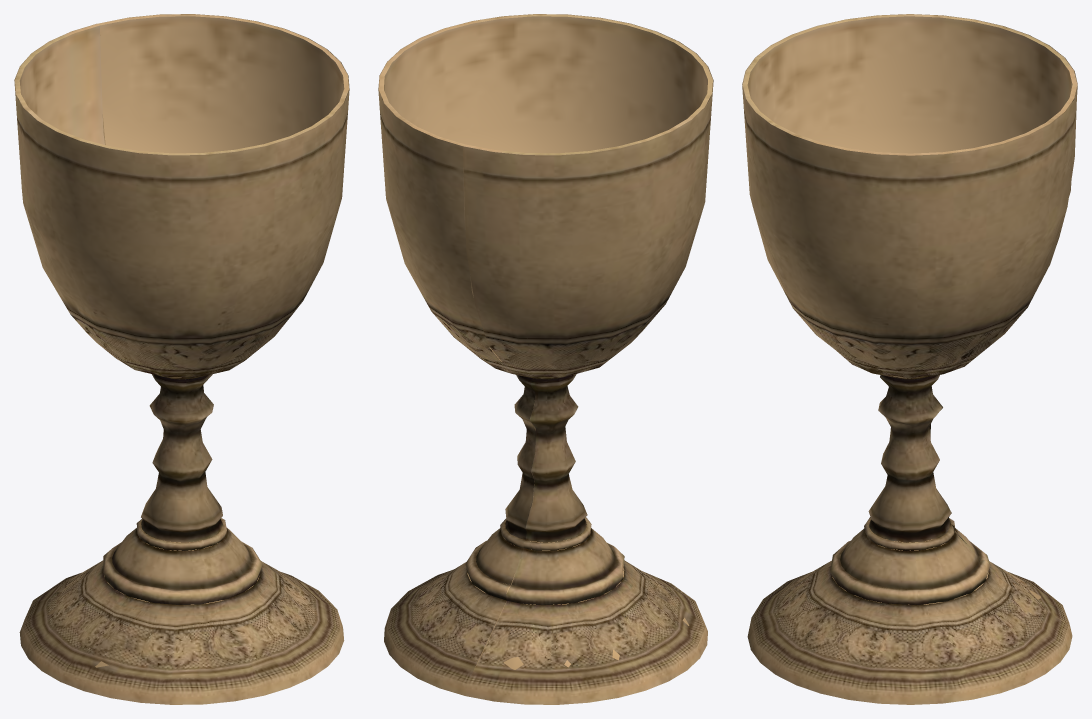
Rendered from prop_goblet.glb.
The picture shows the model from 3 angles, left to right: view 1: azimuth 30°, elevation 25°; view 2: azimuth 150°, elevation 25°; view 3: azimuth 270°, elevation 25°; orthographic projection.
Visible parts, largest first — view 1: brass_goblet_01; view 2: brass_goblet_01; view 3: brass_goblet_01.
Part boxes in pixels (bbox=[...]): brass_goblet_01: bbox=[14, 14, 349, 704]; brass_goblet_01: bbox=[378, 14, 713, 704]; brass_goblet_01: bbox=[742, 14, 1077, 704].
Size of the model in its own units: 0.1104 by 0.2 by 0.1103.
1 material, 1 textured.
